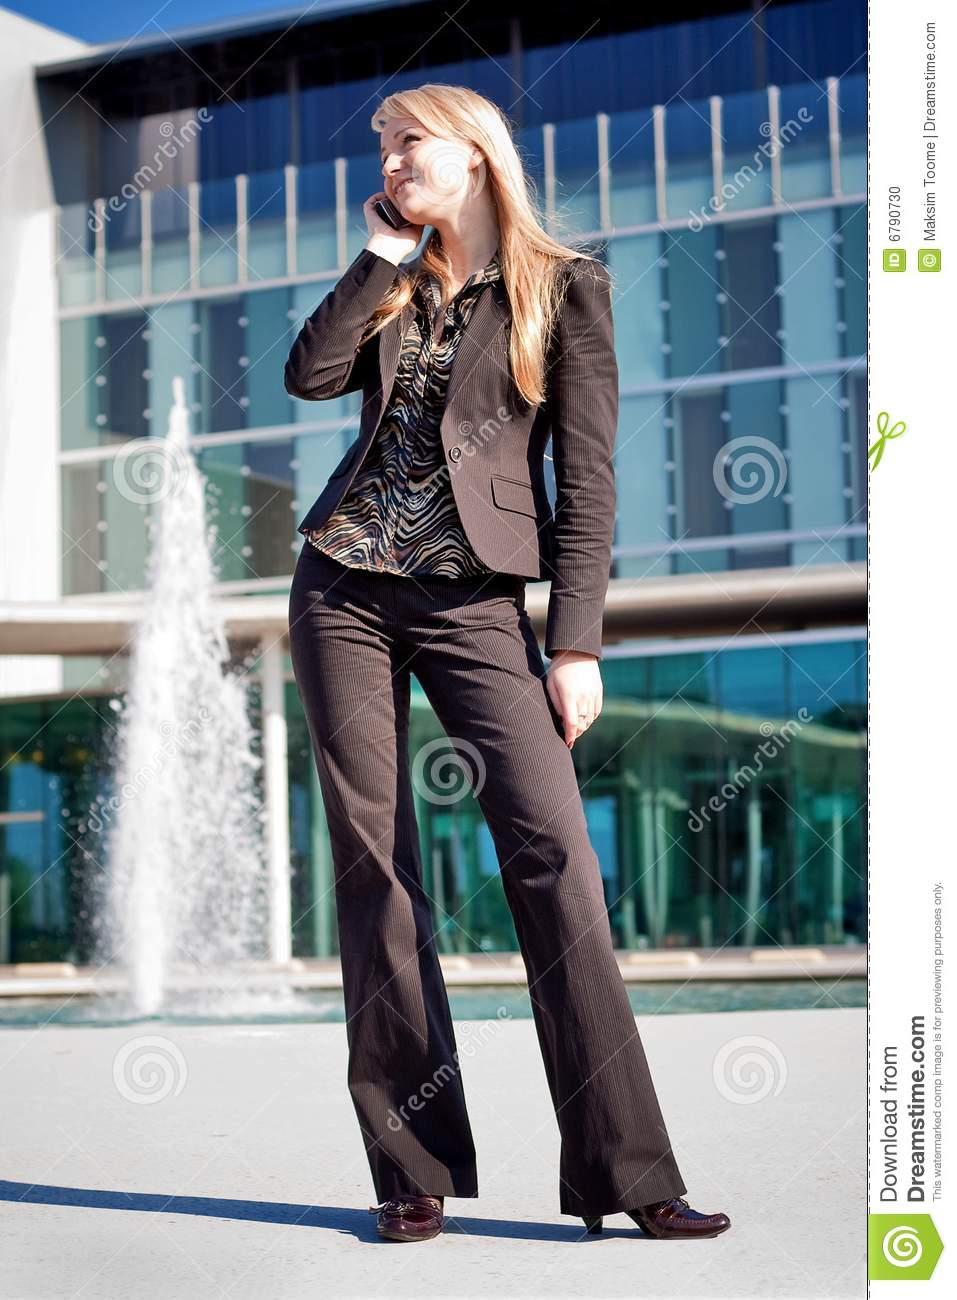talk: (364, 125, 439, 252)
